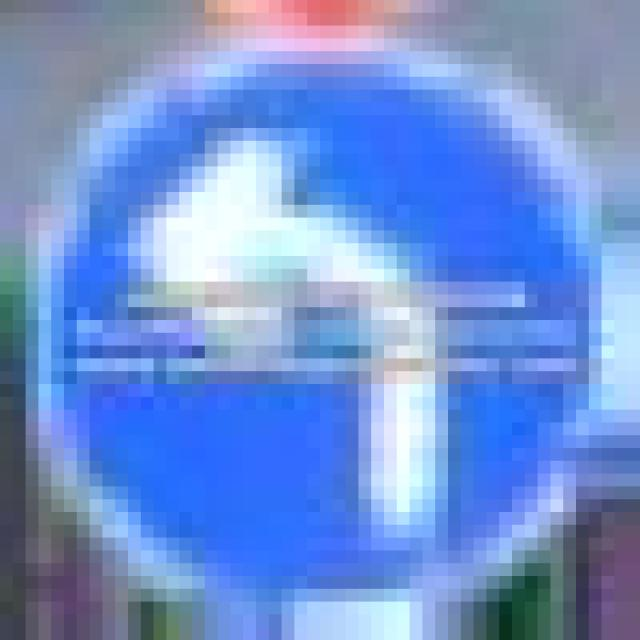compulsory_sound_horn: (26, 26, 588, 588)
